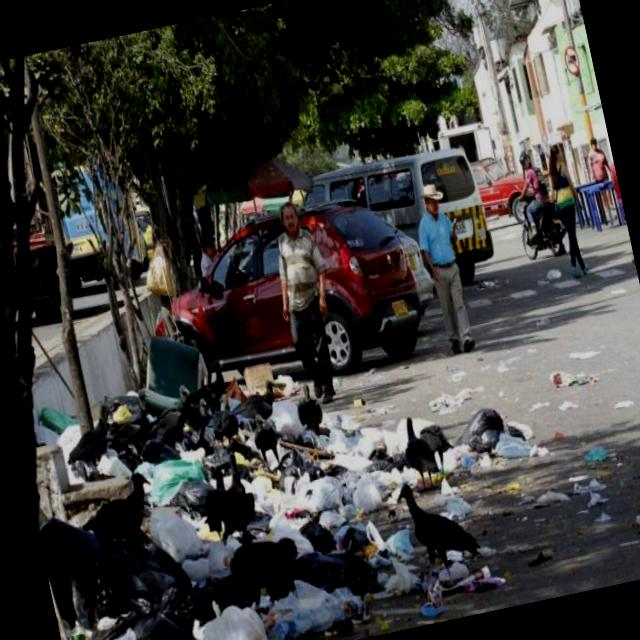garbage: (8, 271, 562, 640)
